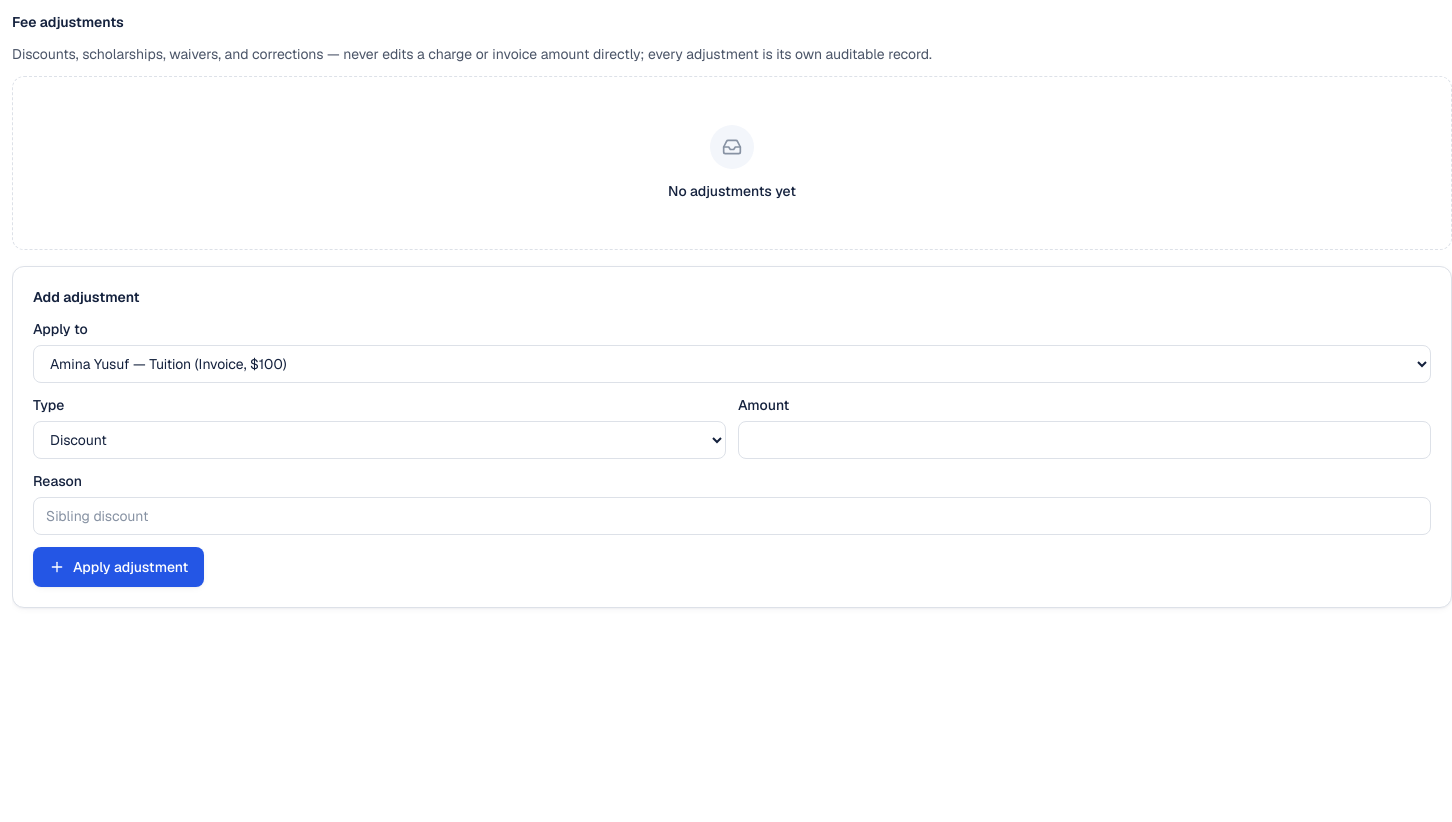
Scenario: FeeAdjustmentsTab — create adjustment (mutation) › clears the amount/reason fields, reloads the list, and shows a success toast after a successful save
This screenshot has width=1452, height=822.
expect the text "No adjustments yet" is shown: met, box x1=668 y1=181 x2=796 y2=201
Type "Reason" into the field with placeholder "Sibling discount" at coordinates (732, 516), box x1=33 y1=497 x2=1431 y2=535
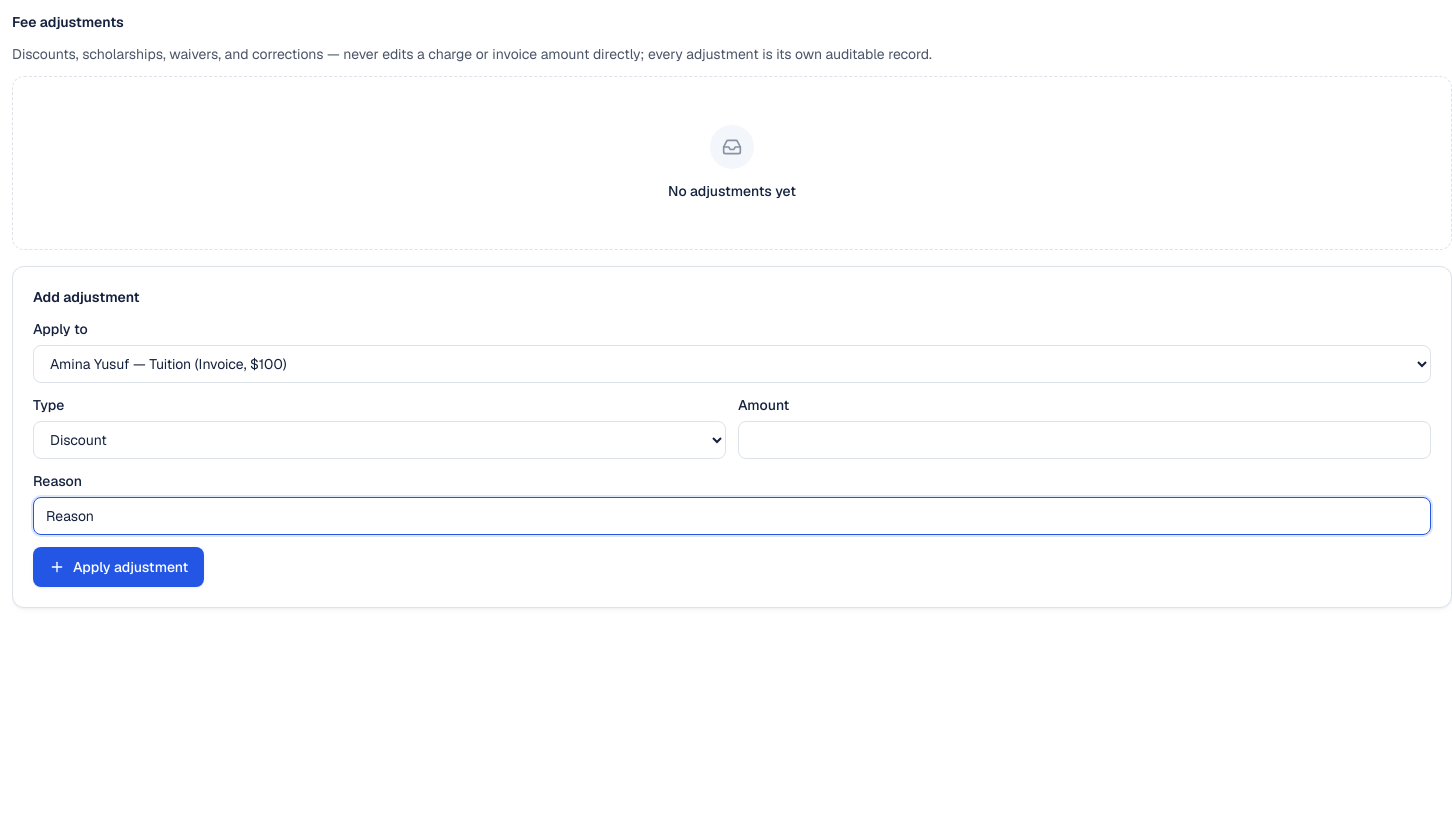
Type "10" into the number field at coordinates (1084, 440), box x1=738 y1=421 x2=1431 y2=459
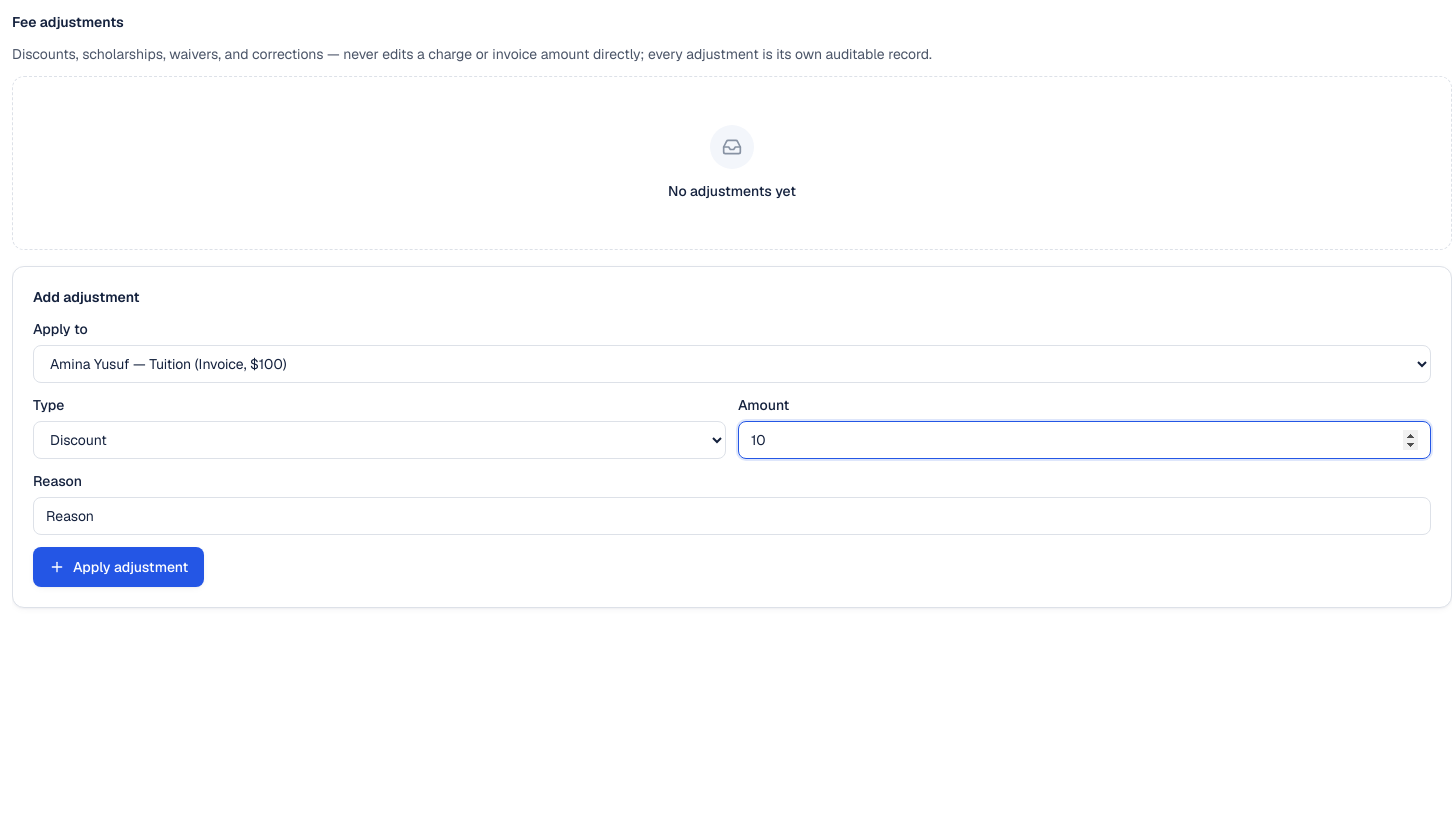
Click the button "Apply adjustment" at coordinates (119, 567), box x1=33 y1=547 x2=204 y2=587
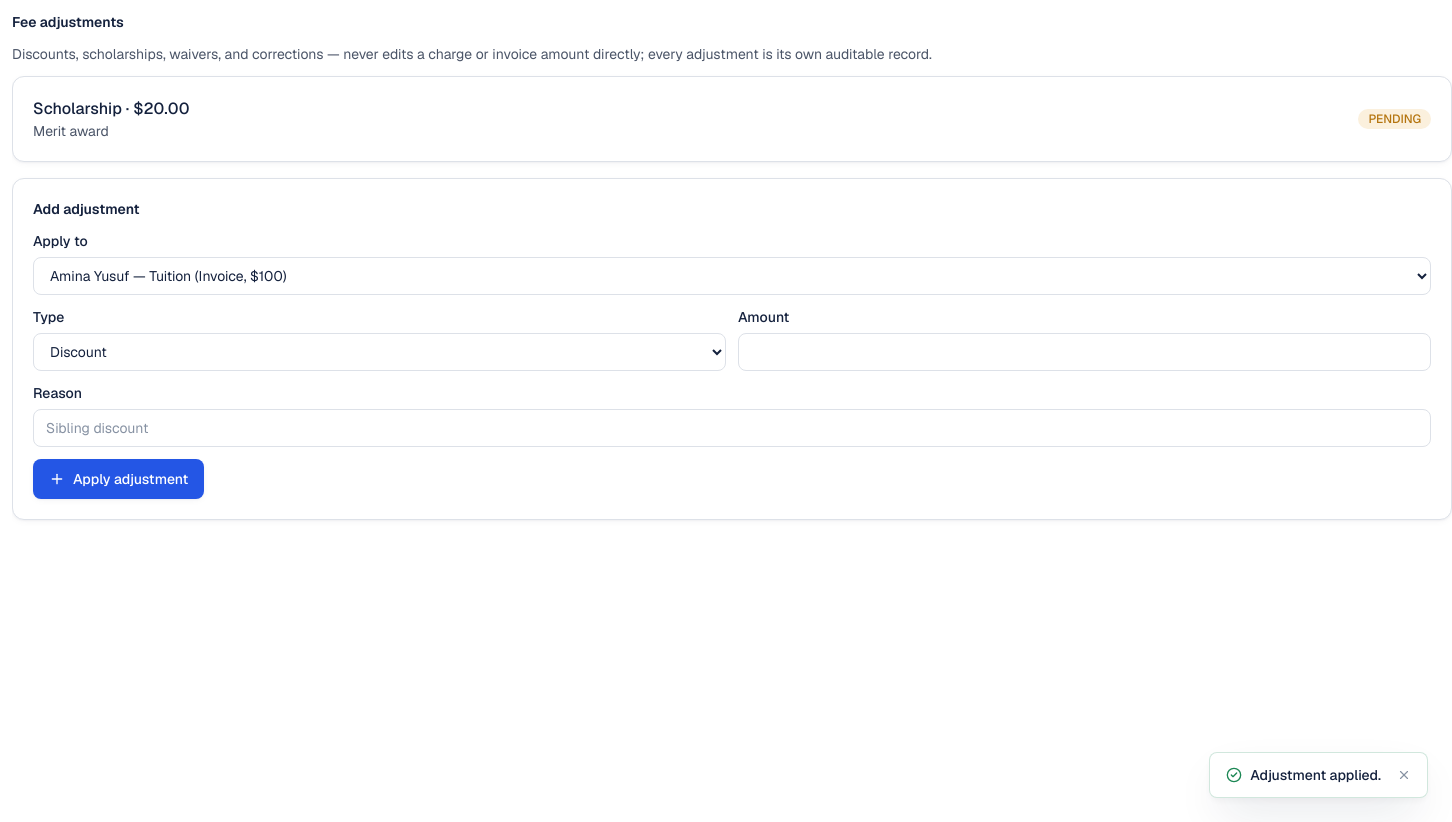
expect the text "Adjustment applied." is shown: met, box x1=1250 y1=765 x2=1381 y2=785
expect the number field is empty: met, box x1=738 y1=333 x2=1431 y2=371
expect the field with placeholder "Sibling discount" is empty: met, box x1=33 y1=409 x2=1431 y2=447
